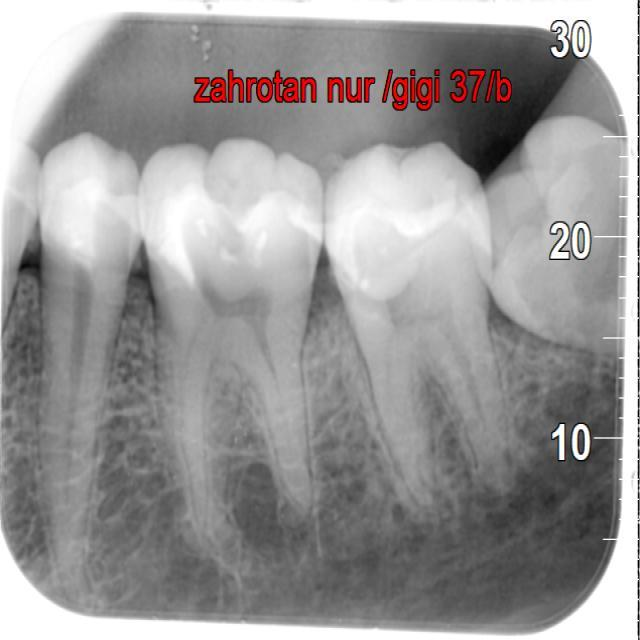individual-tooth-8tto: (136, 138, 327, 543)
